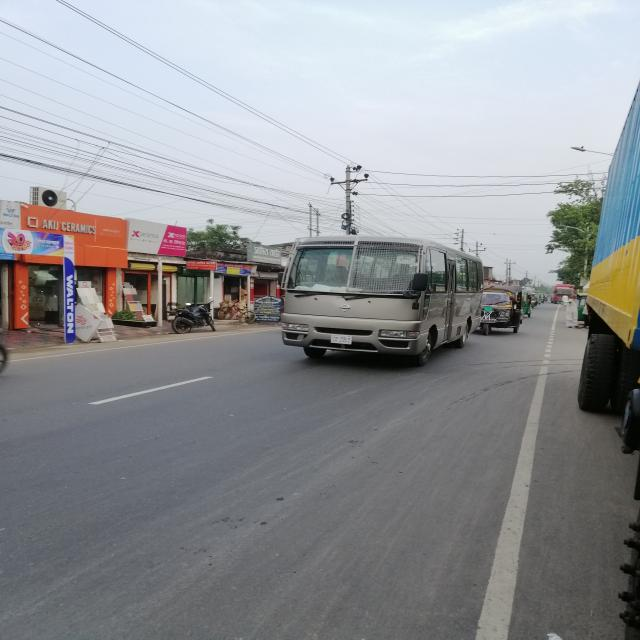Mini-Bus: (255, 229, 512, 383)
Motorbike: (151, 292, 232, 347)
